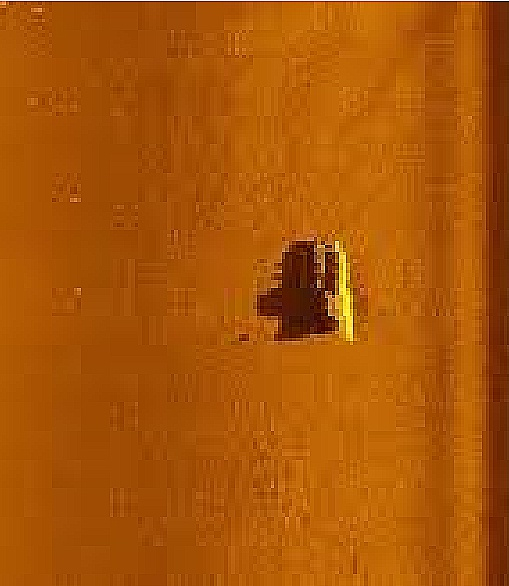ship: (313, 239, 360, 346)
